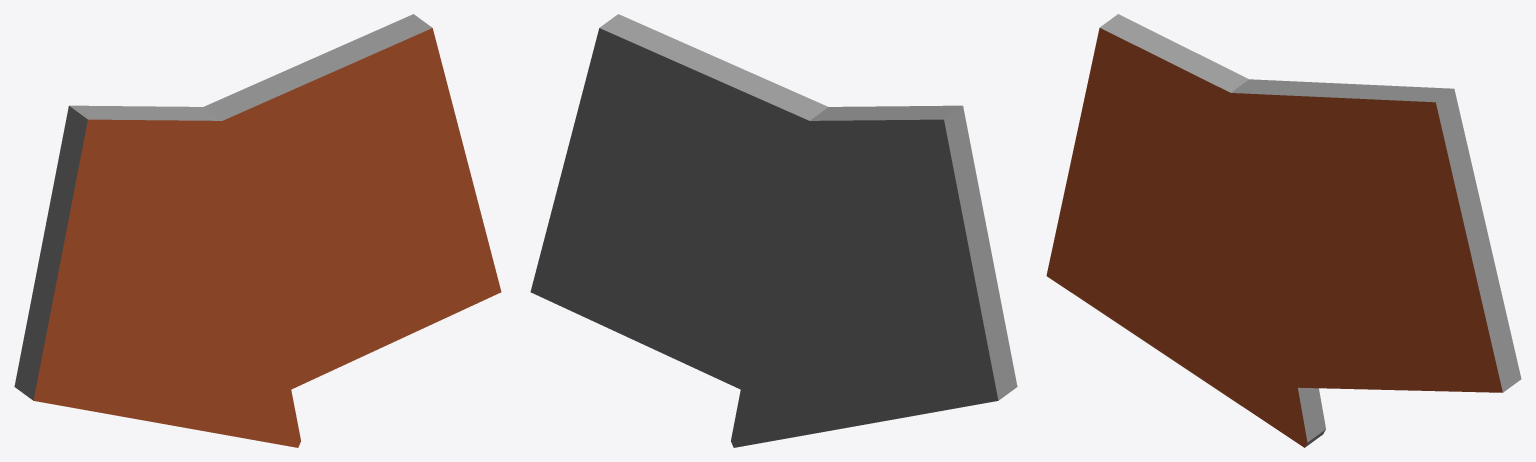
The model's file is construction_0045_assumed_A_Cemiterio_h6m.obj.
The picture shows the model from 3 angles, left to right: view 1: azimuth 30°, elevation 25°; view 2: azimuth 150°, elevation 25°; view 3: azimuth 330°, elevation 25°; orthographic projection. The views are drawn at different scales.
Visible parts, largest first — view 1: construction_0045_assumed_A_Cemiterio; view 2: construction_0045_assumed_A_Cemiterio; view 3: construction_0045_assumed_A_Cemiterio.
Part boxes in pixels (box(x1,y1,x2,y2)): construction_0045_assumed_A_Cemiterio: box(14, 14, 501, 447); construction_0045_assumed_A_Cemiterio: box(530, 14, 1017, 447); construction_0045_assumed_A_Cemiterio: box(1046, 14, 1521, 447).
Bounding box in the file's own units: 85.02 × 67.22 × 6.
